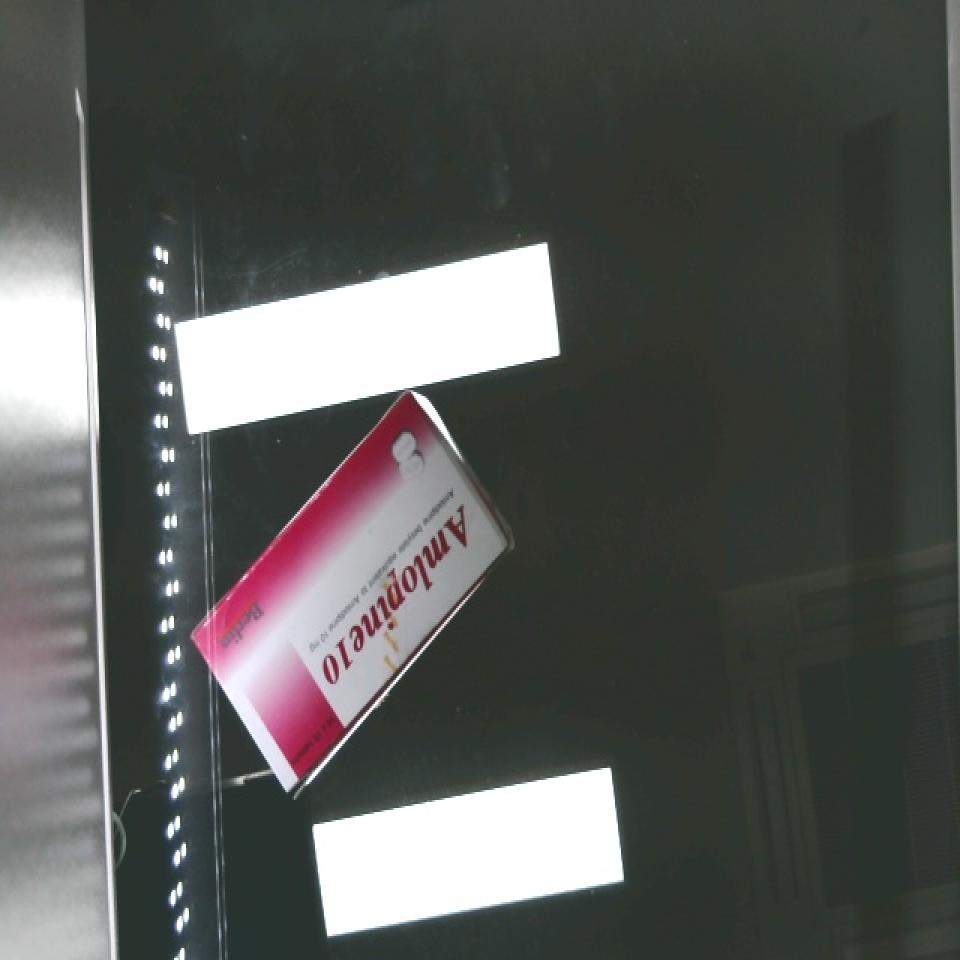medicine_box: (154, 386, 542, 797)
medicine_label_obb: (282, 471, 508, 727)
